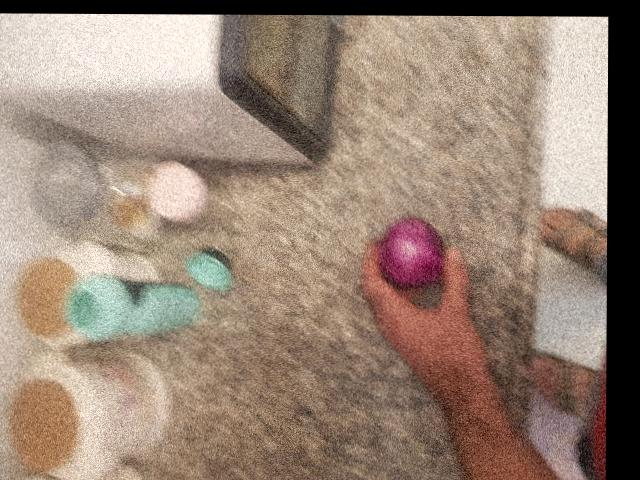onion: (164, 15, 226, 90)
